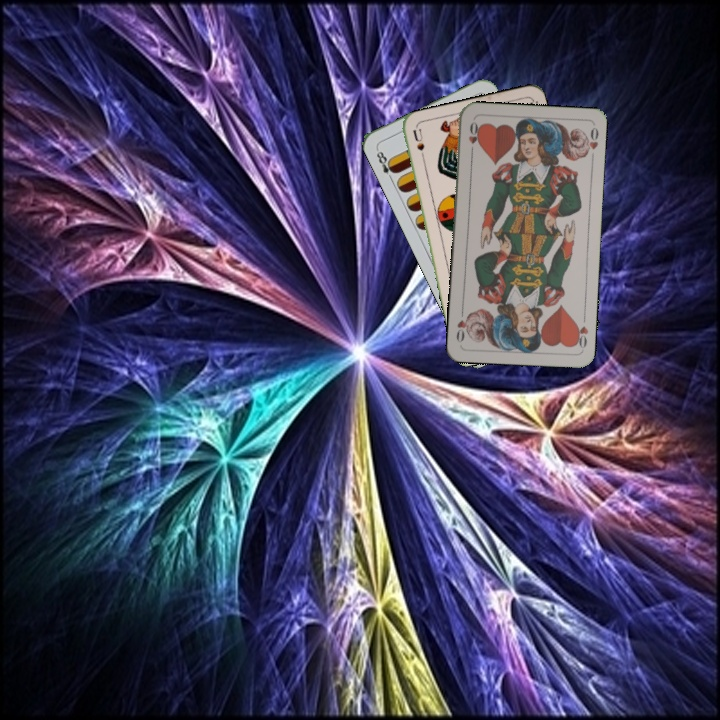E8: (372, 145, 399, 183)
HO: (571, 311, 591, 351), (464, 117, 481, 157)
SU: (409, 125, 428, 166)
